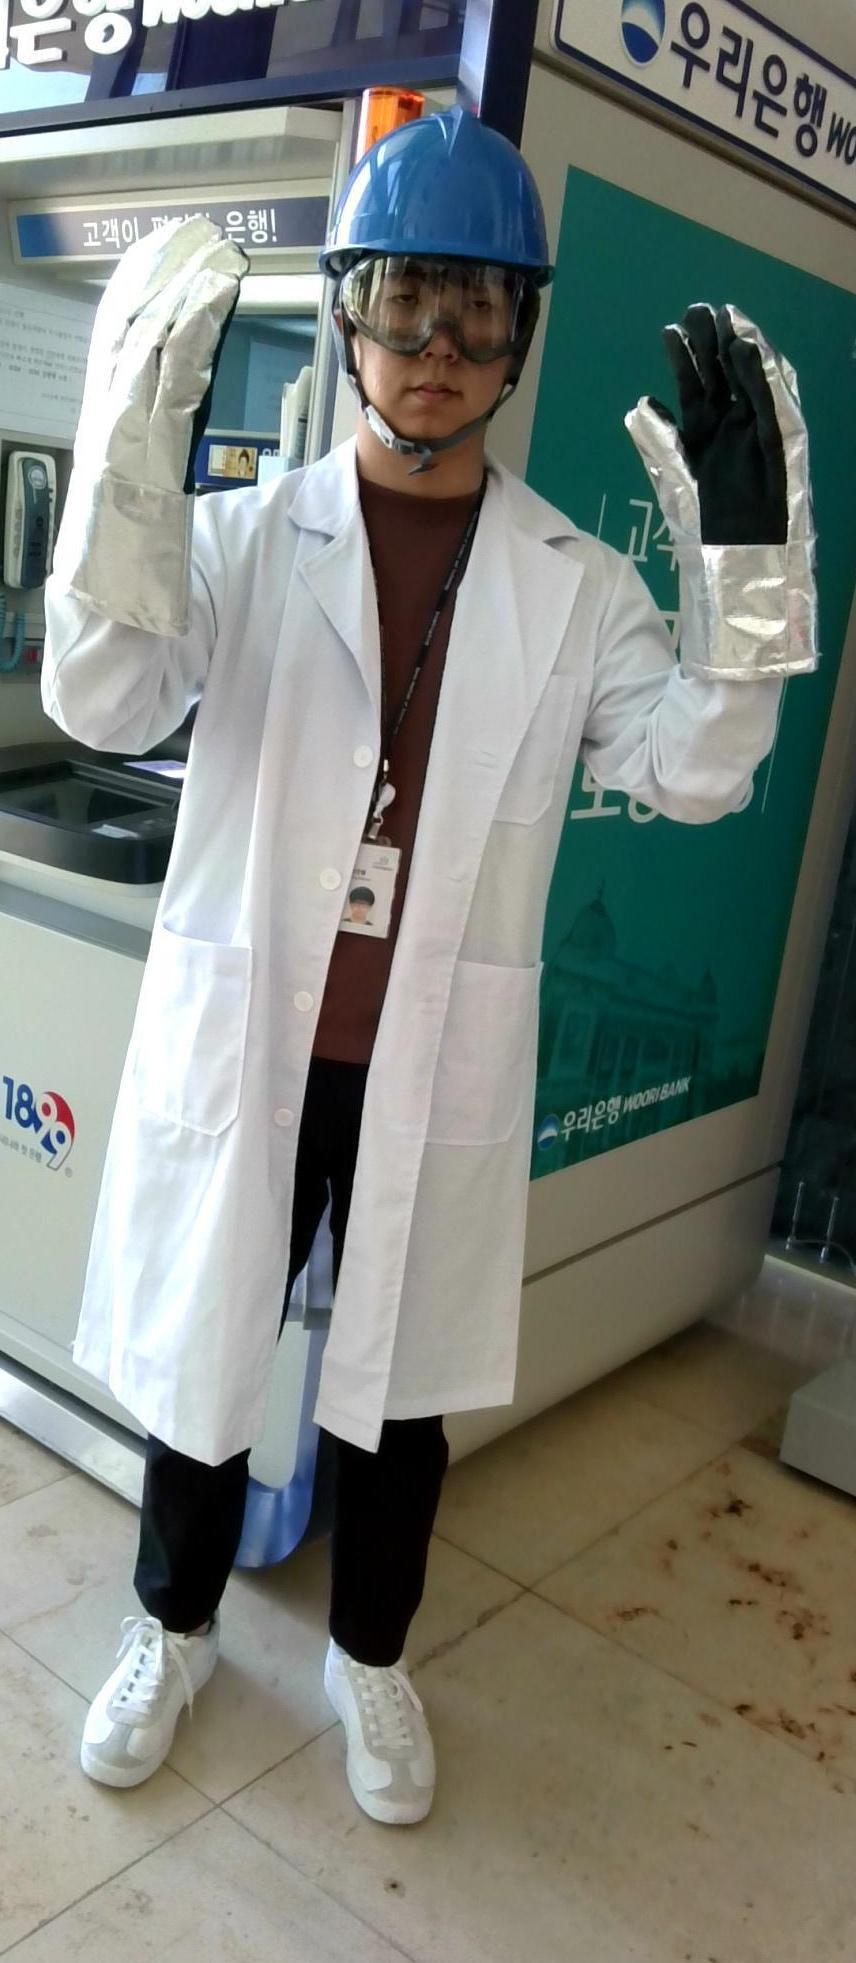lab_coat: (148, 546, 601, 1412)
